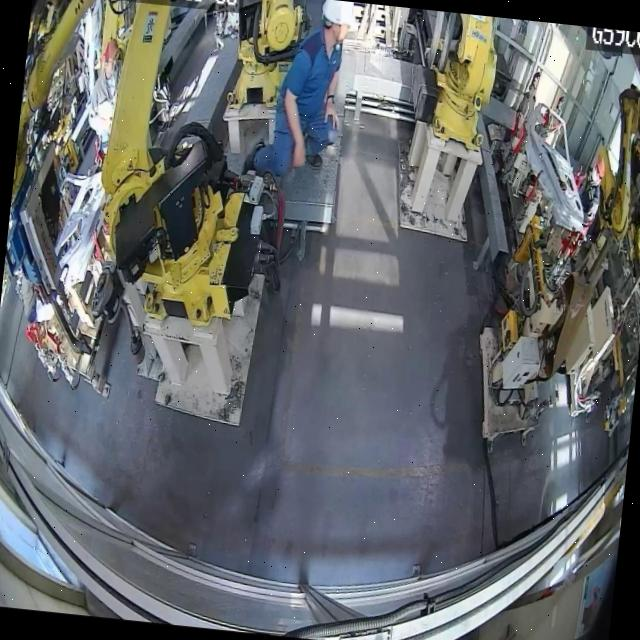Person: (250, 0, 355, 184), (83, 36, 123, 158), (572, 154, 606, 245)
